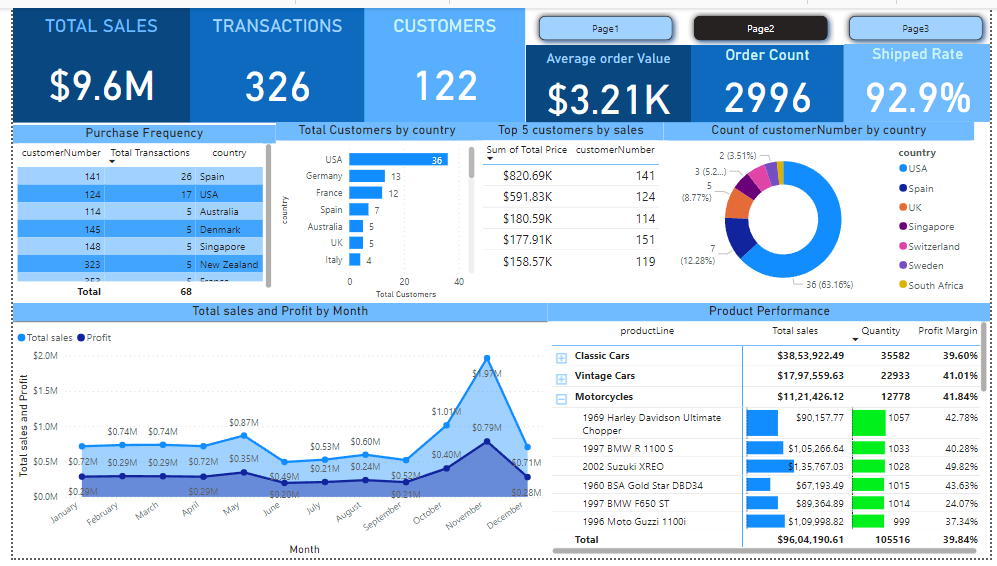

The dashboard page shown, as its layout file describes it:
{"tool":"powerbi","page":{"name":"Page2","canvas":[1280,720],"ordinal":1},"visuals":[{"type":"card","title":"TOTAL SALES","fields":{"Values":["orderdetails.Total sales"]},"box":[0,0,231.8,149.8],"z":0},{"type":"card","title":"TRANSACTIONS","fields":{"Values":["orderes.Total Transactions"]},"box":[231.8,0,229,149.8],"z":1000},{"type":"card","title":"CUSTOMERS","fields":{"Values":["customers.Total Customers"]},"box":[460,0,211.4,150],"z":2000},{"type":"pivotTable","title":"Product Performance","fields":{"Rows":["products.productLine","products.productName"],"Values":["orderdetails.Total sales","orderdetails.Quantity","orderdetails.Profit Margin"]},"box":[699.8,385.9,580.3,334.1],"z":3000},{"type":"clusteredBarChart","fields":{"Category":["customers.country"],"Y":["customers.Total Customers"]},"box":[344.2,149.8,265,236.2],"z":4000},{"type":"tableEx","title":"Purchase Frequency","fields":{"Values":["orderes.customerNumber","orderes.Total Transactions","customers.country"]},"box":[0,152.6,344.2,233.3],"z":5000},{"type":"tableEx","title":"Top 5 customers by sales","fields":{"Values":["Sum(orderdetails.Total Price)","customers.customerNumber"]},"box":[609.1,149.8,243.4,236.2],"z":6000},{"type":"areaChart","fields":{"Category":["orderes.orderDate.Variation.Date Hierarchy.Month"],"Y":["orderdetails.Total sales","orderdetails.Profit"]},"box":[0,385.9,699.8,334.1],"z":7000},{"type":"donutChart","fields":{"Category":["customers.country"],"Y":["CountNonNull(customers.customerNumber)"]},"box":[852.5,149.8,406.1,236.2],"z":8000},{"type":"pageNavigator","box":[679.5,1.4,600.5,50.4],"z":9000},{"type":"card","title":"Average order Value","fields":{"Values":["orderes.average order value"]},"box":[671,49,216,100.8],"z":10000},{"type":"card","title":"Order Count","fields":{"Values":["CountNonNull(orderdetails.orderNumber)"]},"box":[887,49,200.2,100.8],"z":11000},{"type":"card","title":"Shipped Rate","fields":{"Values":["customers.Shipped Rate"]},"box":[1087.2,47.5,193,102.2],"z":12000}]}

Visuals, with their boxes in screenshot pixels (x1, y1, x2, y2), scaled from the page's 1280x720 canvas onto the 997x566 screenshot:
"TOTAL SALES" card: [left=0, top=0, right=181, bottom=118]
"TRANSACTIONS" card: [left=181, top=0, right=359, bottom=118]
"CUSTOMERS" card: [left=358, top=0, right=523, bottom=118]
"Product Performance" pivotTable: [left=545, top=303, right=996, bottom=565]
clusteredBarChart - customers.country x customers.Total Customers: [left=268, top=118, right=475, bottom=303]
"Purchase Frequency" tableEx: [left=0, top=120, right=268, bottom=303]
"Top 5 customers by sales" tableEx: [left=474, top=118, right=664, bottom=303]
areaChart - orderes.orderDate.Variation.Date Hierarchy.Month x orderdetails.Total sales: [left=0, top=303, right=545, bottom=565]
donutChart - customers.country x CountNonNull(customers.customerNumber): [left=664, top=118, right=980, bottom=303]
pageNavigator: [left=529, top=1, right=996, bottom=41]
"Average order Value" card: [left=523, top=39, right=691, bottom=118]
"Order Count" card: [left=691, top=39, right=847, bottom=118]
"Shipped Rate" card: [left=847, top=37, right=996, bottom=118]
